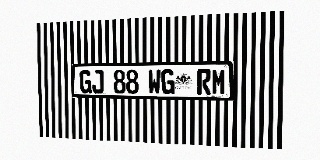8: (113, 69, 126, 94), (126, 69, 139, 94)
G: (161, 69, 175, 94), (80, 70, 92, 93)
J: (92, 70, 104, 93)
M: (212, 69, 226, 95)
R: (197, 69, 211, 95)
W: (148, 69, 161, 94)
